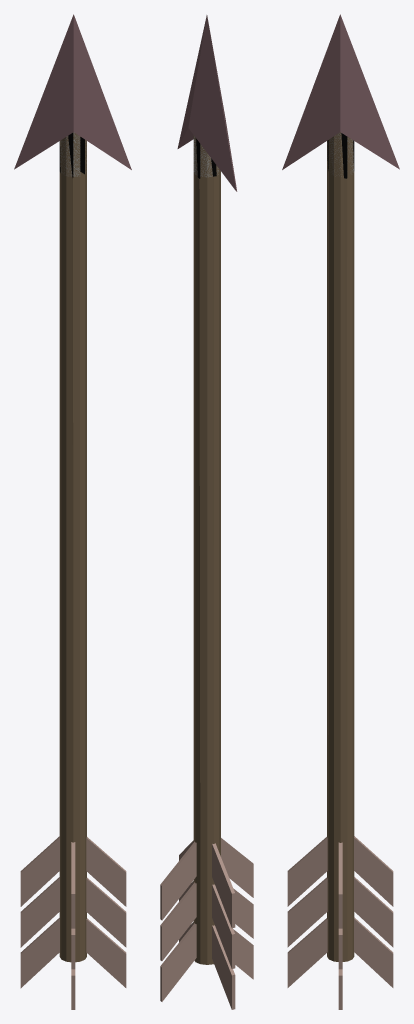
Rendered from ArrowsALL.fbx.
3 renders of one model, left to right at view 1: azimuth 90°, elevation 25°; view 2: azimuth 210°, elevation 25°; view 3: azimuth 270°, elevation 25°, orthographic.
Parts seen in each view (by area): view 1: ArrowFlint, ArrowIron, ArrowObsidian; view 2: ArrowFlint, ArrowIron, ArrowObsidian; view 3: ArrowFlint, ArrowIron, ArrowObsidian.
Part boxes in pixels (bbox=[...]): ArrowFlint: bbox=[14, 14, 131, 1009]; ArrowIron: bbox=[60, 132, 86, 961]; ArrowObsidian: bbox=[20, 133, 126, 1009]; ArrowFlint: bbox=[160, 15, 253, 1009]; ArrowIron: bbox=[193, 136, 220, 964]; ArrowObsidian: bbox=[160, 139, 251, 1009]; ArrowFlint: bbox=[282, 14, 399, 1009]; ArrowIron: bbox=[327, 133, 354, 961]; ArrowObsidian: bbox=[287, 133, 393, 1009].
Bounding box in the file's own units: 2.8 × 28.49 × 3.12.
